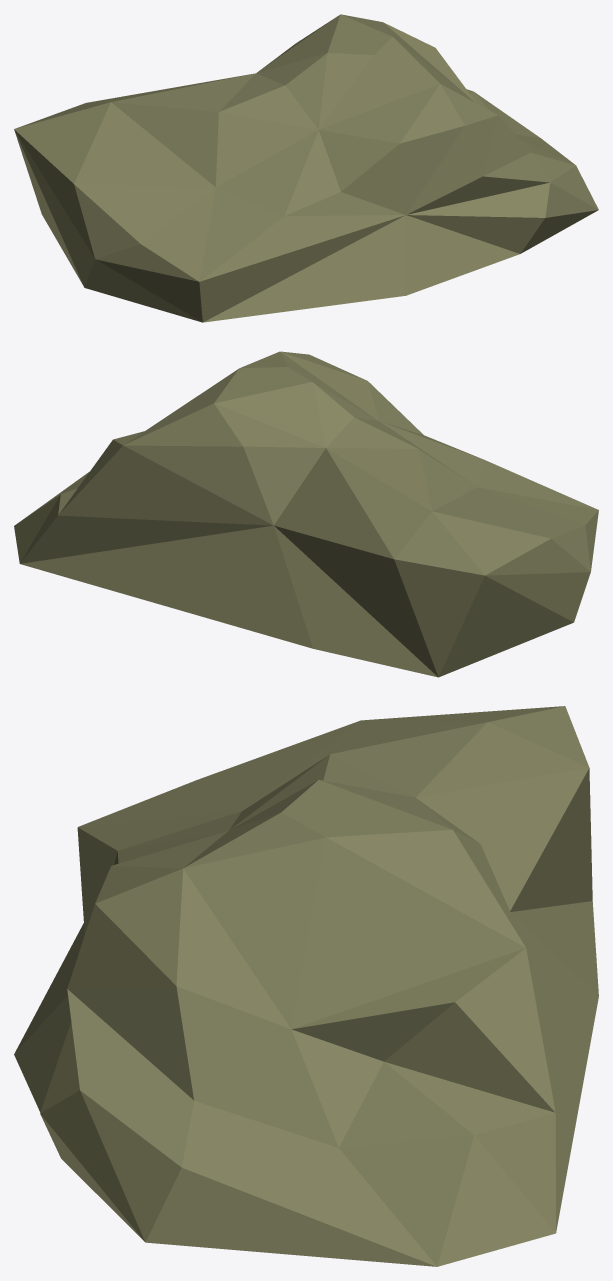
Rendered from RH_Rock09.fbx.
The picture shows the model from 3 angles, top to bottom: view 1: azimuth 30°, elevation 25°; view 2: azimuth 150°, elevation 25°; view 3: azimuth 270°, elevation 25°; orthographic projection. The views are drawn at different scales.
Visible parts, largest first — view 1: RH_Rock09; view 2: RH_Rock09; view 3: RH_Rock09.
Boxes of the visible parts, x1,y1,x2,y2 form: RH_Rock09: [14, 14, 598, 322]; RH_Rock09: [14, 351, 598, 677]; RH_Rock09: [14, 706, 598, 1266].
Size of the model in its own units: 180 by 59.6 by 111.
1 material, 1 textured.
